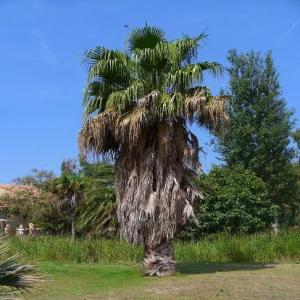palm tree: (76, 20, 232, 276)
